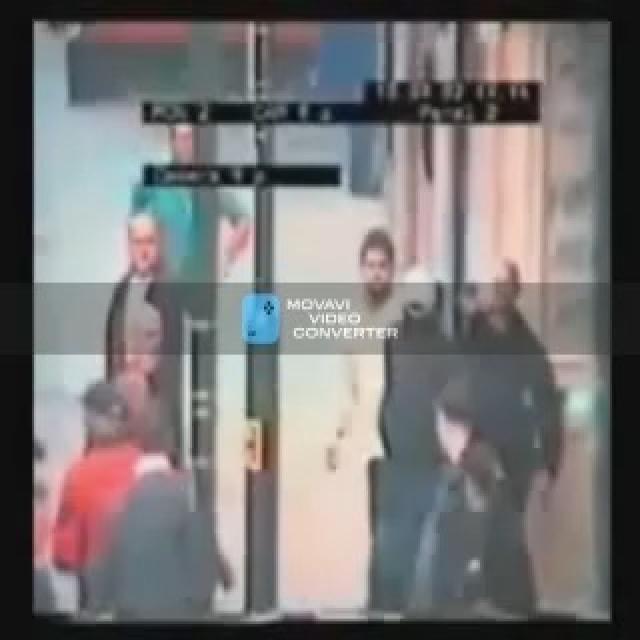non-voilence: (34, 16, 614, 624)
